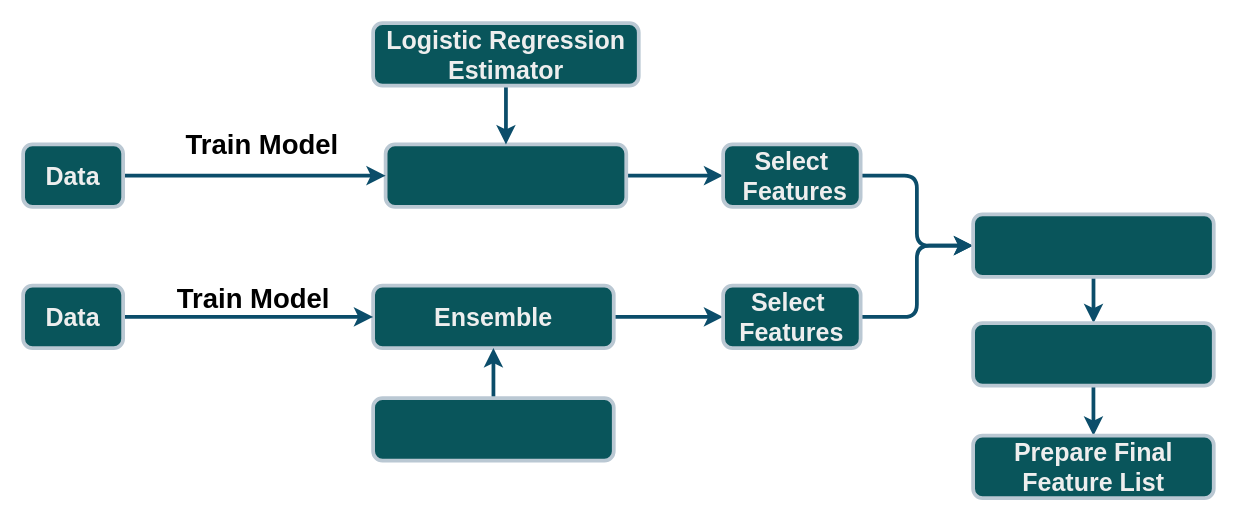
Image size: 1238x521. Some labels were removed from this diagram. Each missing label, with the centre of its shape:
Compare Feature Set: (x=1093, y=245)
Random Forest Estimator: (x=493, y=429)
RFE: (x=505, y=175)
Take Commonly Selected Feature: (x=1093, y=354)
